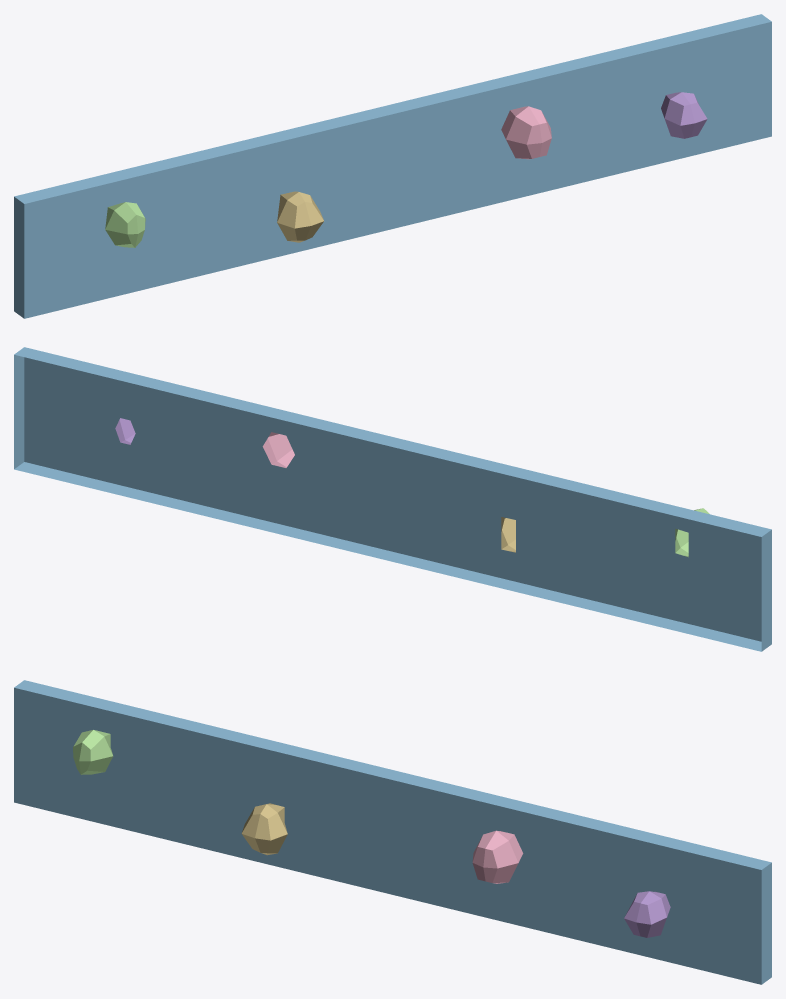
Rendered from HANGer.fbx.
The picture shows the model from 3 angles, top to bottom: view 1: azimuth 30°, elevation 25°; view 2: azimuth 150°, elevation 25°; view 3: azimuth 330°, elevation 25°; orthographic projection.
Visible parts, largest first — view 1: Cube; view 2: Cube; view 3: Cube.
Boxes of the visible parts, box(x1,y1,x2,y2) form: Cube: box(14, 14, 771, 318); Cube: box(14, 347, 771, 651); Cube: box(14, 680, 771, 984).
Bounding box in the file's own units: 218 × 31.93 × 17.48.
